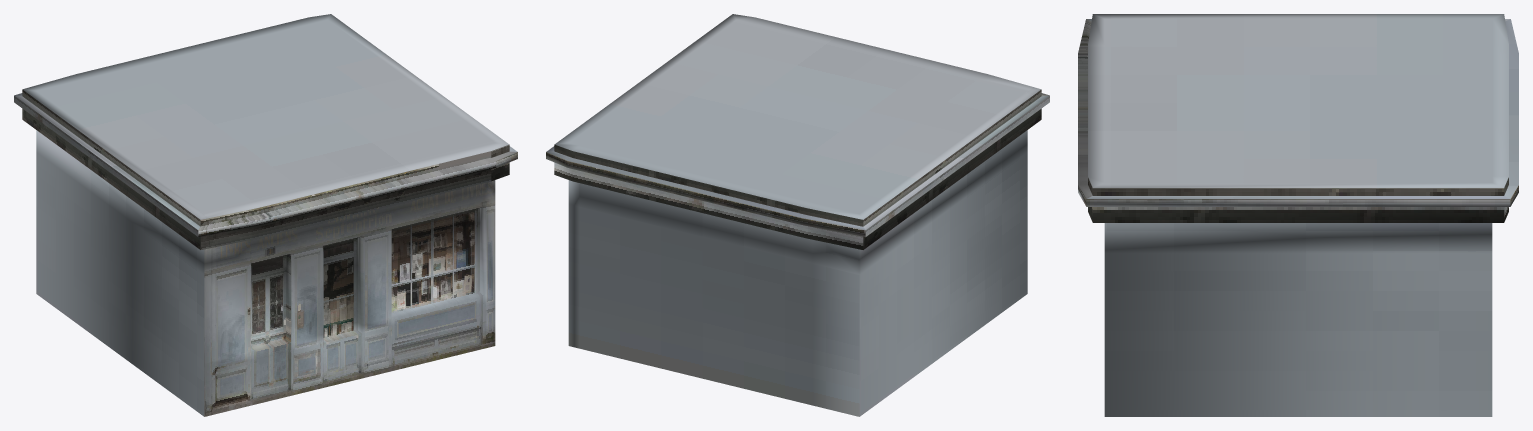
File: House.glb
3 views of the same model, side by side, from view 1: azimuth 30°, elevation 25°; view 2: azimuth 150°, elevation 25°; view 3: azimuth 270°, elevation 25° (orthographic). The views are drawn at different scales.
Parts seen in each view (by area): view 1: House; view 2: House; view 3: House.
Part boxes in pixels (left/top/right/bottom): House: left=14, top=14, right=517, bottom=416; House: left=546, top=14, right=1049, bottom=416; House: left=1078, top=14, right=1518, bottom=416.
Size of the model in its own units: 6.6 by 4 by 6.83.
Materials: 1 (1 with a texture image).
